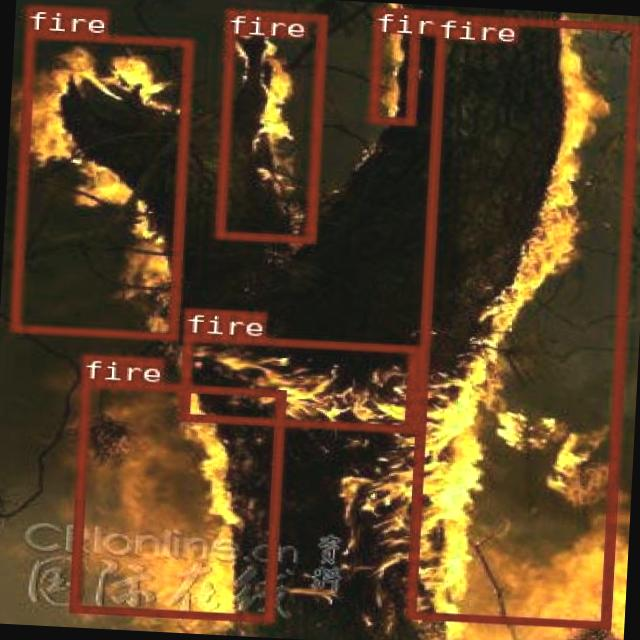fire: (406, 12, 638, 627), (9, 29, 192, 340), (68, 379, 283, 621), (213, 9, 325, 242), (178, 332, 416, 432), (366, 6, 419, 124)
